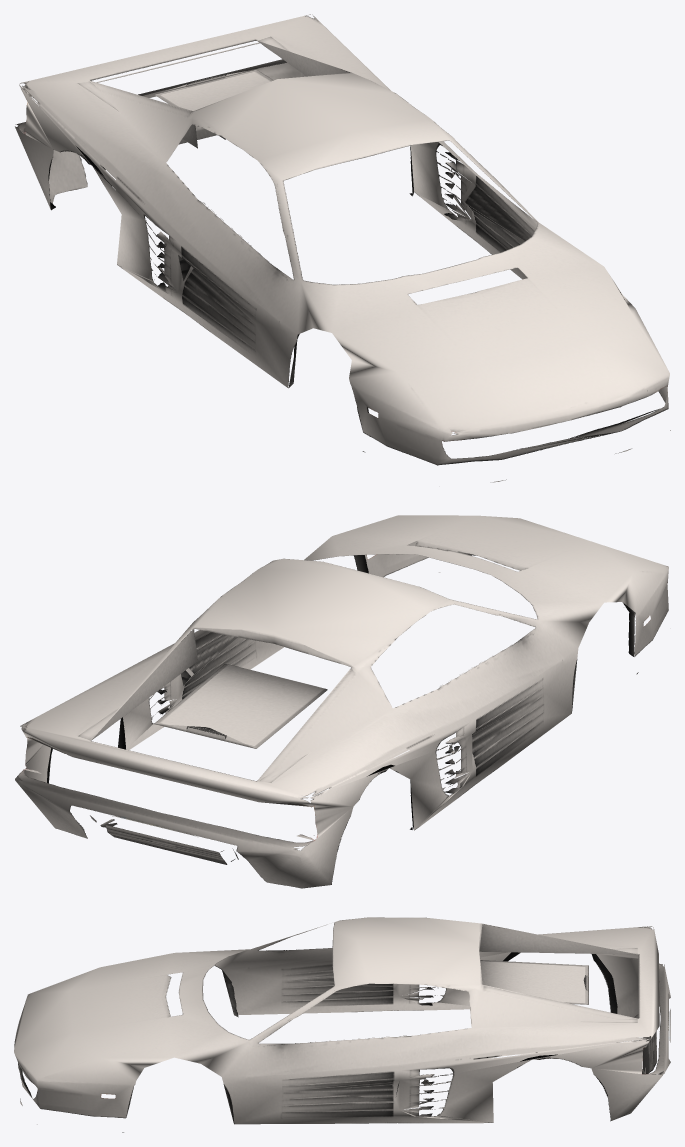
The model's file is mobile_car_0003.fbx.
The picture shows the model from 3 angles, top to bottom: view 1: azimuth 30°, elevation 25°; view 2: azimuth 150°, elevation 25°; view 3: azimuth 270°, elevation 25°; orthographic projection. The views are drawn at different scales.
Parts seen in each view (by area): view 1: Mesh; view 2: Mesh; view 3: Mesh.
Part boxes in pixels (x1=…): Mesh: x1=15, y1=14, x2=670, y2=482; Mesh: x1=15, y1=515, x2=668, y2=888; Mesh: x1=14, y1=917, x2=670, y2=1132.
Bounding box in the file's own units: 205 × 116 × 492.
